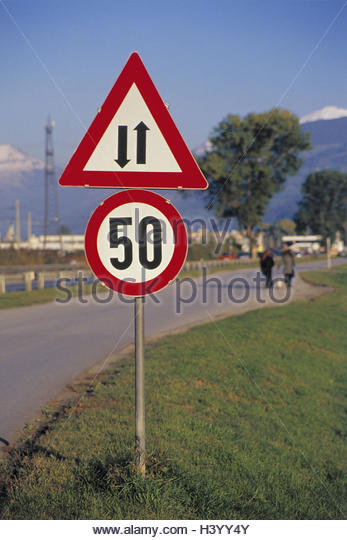Speed_limit_50km: (85, 191, 190, 294)
